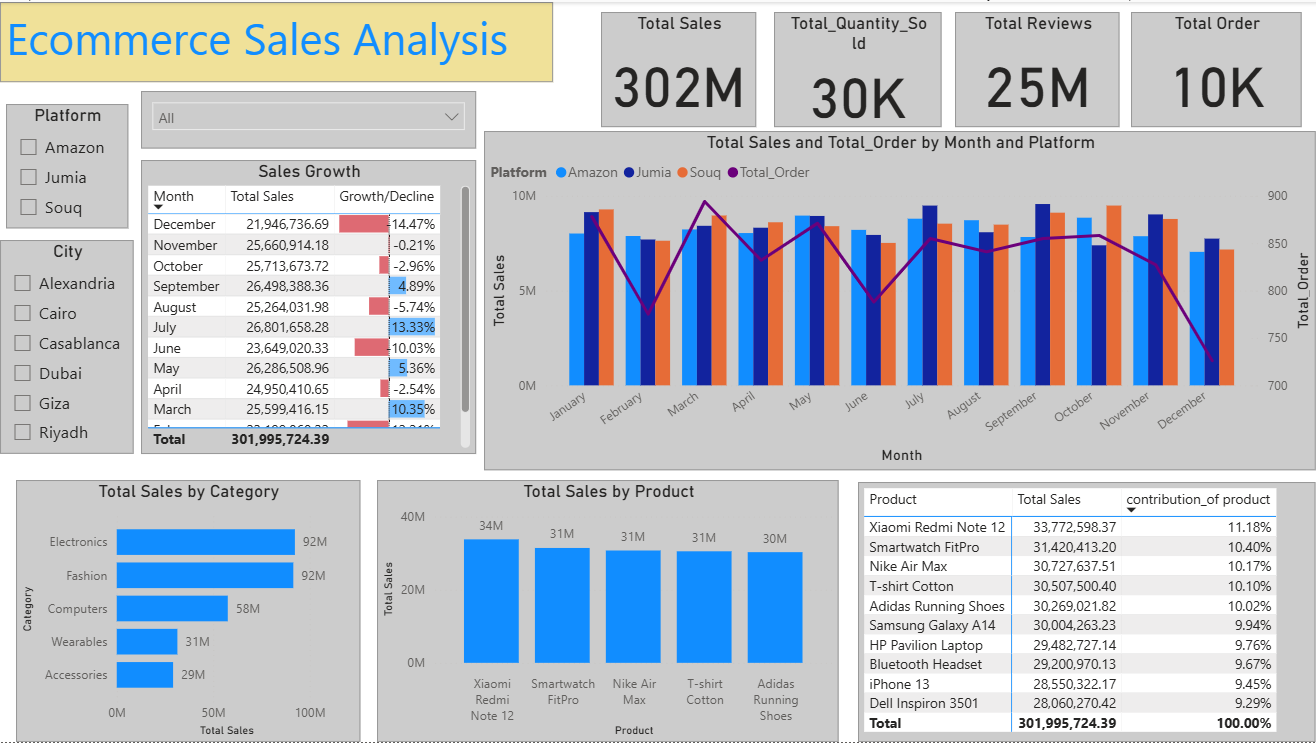

The dashboard page shown, as its layout file describes it:
{"tool":"powerbi","page":{"name":"Page 1","canvas":[1280,720],"ordinal":0},"visuals":[{"type":"textbox","box":[0,0,511.1,77.8],"z":0},{"type":"card","title":"Total Sales","fields":{"Values":["Measures (2).Total Sales"]},"box":[520,3.3,238.9,111.1],"z":1000},{"type":"card","title":"Total_Quantity_Sold","fields":{"Values":["Measures (2).Total_Quantity_Sold"]},"box":[768.9,3.3,163.3,111.1],"z":2000},{"type":"card","title":"Total Reviews","fields":{"Values":["Measures (2).Total_Reviews"]},"box":[941.1,3.3,160,111.1],"z":3000},{"type":"card","title":"Total Order","fields":{"Values":["Measures (2).Total_Order"]},"box":[1113.3,3.3,166.7,111.1],"z":4000},{"type":"slicer","title":"Platform","fields":{"Values":["ecommerce_10000.Platform"]},"box":[5.8,99.2,118.7,120.6],"z":5000},{"type":"slicer","title":"City","fields":{"Values":["ecommerce_10000.City"]},"box":[0,231.5,130.3,208.1],"z":6000},{"type":"tableEx","title":"Sales Growth","fields":{"Values":["Calendar_Table.Date.Variation.Date Hierarchy.Month","Measures (2).Total Sales","Measures (2).Growth/Decline"]},"box":[137.1,153.7,325.8,286],"z":7000},{"type":"lineClusteredColumnComboChart","fields":{"Category":["Calendar_Table.Date.Variation.Date Hierarchy.Month"],"Series":["ecommerce_10000.Platform"],"Y":["Measures (2).Total Sales"],"Y2":["Measures (2).Total_Order"]},"box":[470.8,125.5,809.2,329.7],"z":8000},{"type":"barChart","fields":{"Category":["ecommerce_10000.Category"],"Y":["Measures (2).Total Sales"]},"box":[17.8,464.4,334.4,255.6],"z":9000},{"type":"clusteredColumnChart","fields":{"Category":["ecommerce_10000.Product"],"Y":["Measures (2).Total Sales"]},"box":[376.7,464.4,448.9,255.6],"z":10000},{"type":"slicer","title":"Products","fields":{"Values":["ecommerce_10000.Product"]},"box":[136.7,81.1,326.7,66.7],"z":11000},{"type":"pivotTable","fields":{"Rows":["ecommerce_10000.Product"],"Values":["Measures (2).Total Sales","Measures (2).contribution_of product"]},"box":[834.5,466.9,445.5,252.9],"z":12000}]}

Visuals, with their boxes in screenshot pixels (x1, y1, x2, y2), scaled from the page's 1280x720 canvas onto the 1316x743 screenshot:
textbox: select_region(0, 0, 525, 80)
"Total Sales" card: select_region(535, 3, 780, 118)
"Total_Quantity_Sold" card: select_region(791, 3, 958, 118)
"Total Reviews" card: select_region(968, 3, 1132, 118)
"Total Order" card: select_region(1145, 3, 1315, 118)
"Platform" slicer: select_region(6, 102, 128, 227)
"City" slicer: select_region(0, 239, 134, 454)
"Sales Growth" tableEx: select_region(141, 159, 476, 454)
lineClusteredColumnComboChart - Calendar_Table.Date.Variation.Date Hierarchy.Month x ecommerce_10000.Platform: select_region(484, 130, 1315, 470)
barChart - ecommerce_10000.Category x Measures (2).Total Sales: select_region(18, 479, 362, 742)
clusteredColumnChart - ecommerce_10000.Product x Measures (2).Total Sales: select_region(387, 479, 849, 742)
"Products" slicer: select_region(141, 84, 476, 153)
pivotTable - ecommerce_10000.Product x Measures (2).Total Sales: select_region(858, 482, 1315, 742)
